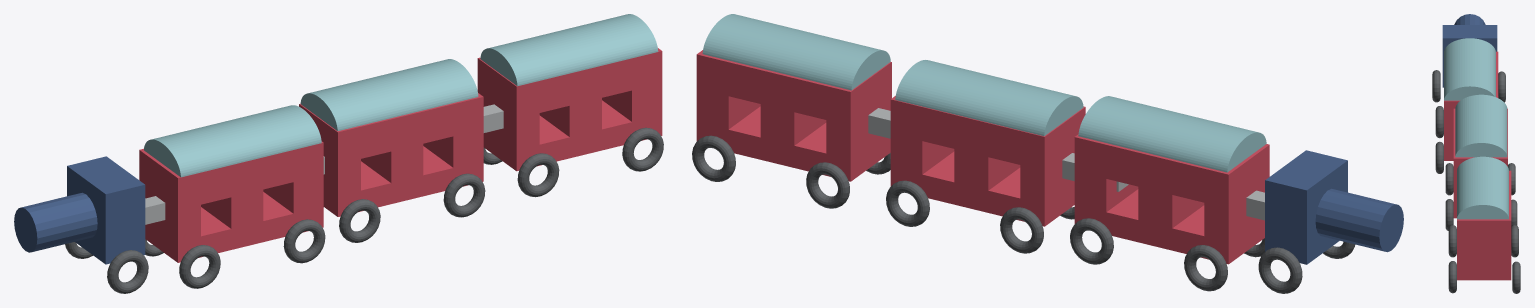
3 renders of one model, left to right at view 1: azimuth 30°, elevation 25°; view 2: azimuth 150°, elevation 25°; view 3: azimuth 270°, elevation 25°, orthographic. The views are drawn at different scales.
Parts seen in each view (by area): view 1: Mesh_Mesh_head_geo.001_lambert2SG.001; view 2: Mesh_Mesh_head_geo.001_lambert2SG.001; view 3: Mesh_Mesh_head_geo.001_lambert2SG.001.
Part boxes in pixels (bbox=[...]): Mesh_Mesh_head_geo.001_lambert2SG.001: bbox=[14, 14, 663, 293]; Mesh_Mesh_head_geo.001_lambert2SG.001: bbox=[692, 14, 1403, 293]; Mesh_Mesh_head_geo.001_lambert2SG.001: bbox=[1432, 14, 1520, 293].
Bounding box in the file's own units: 312 × 63 × 54.
